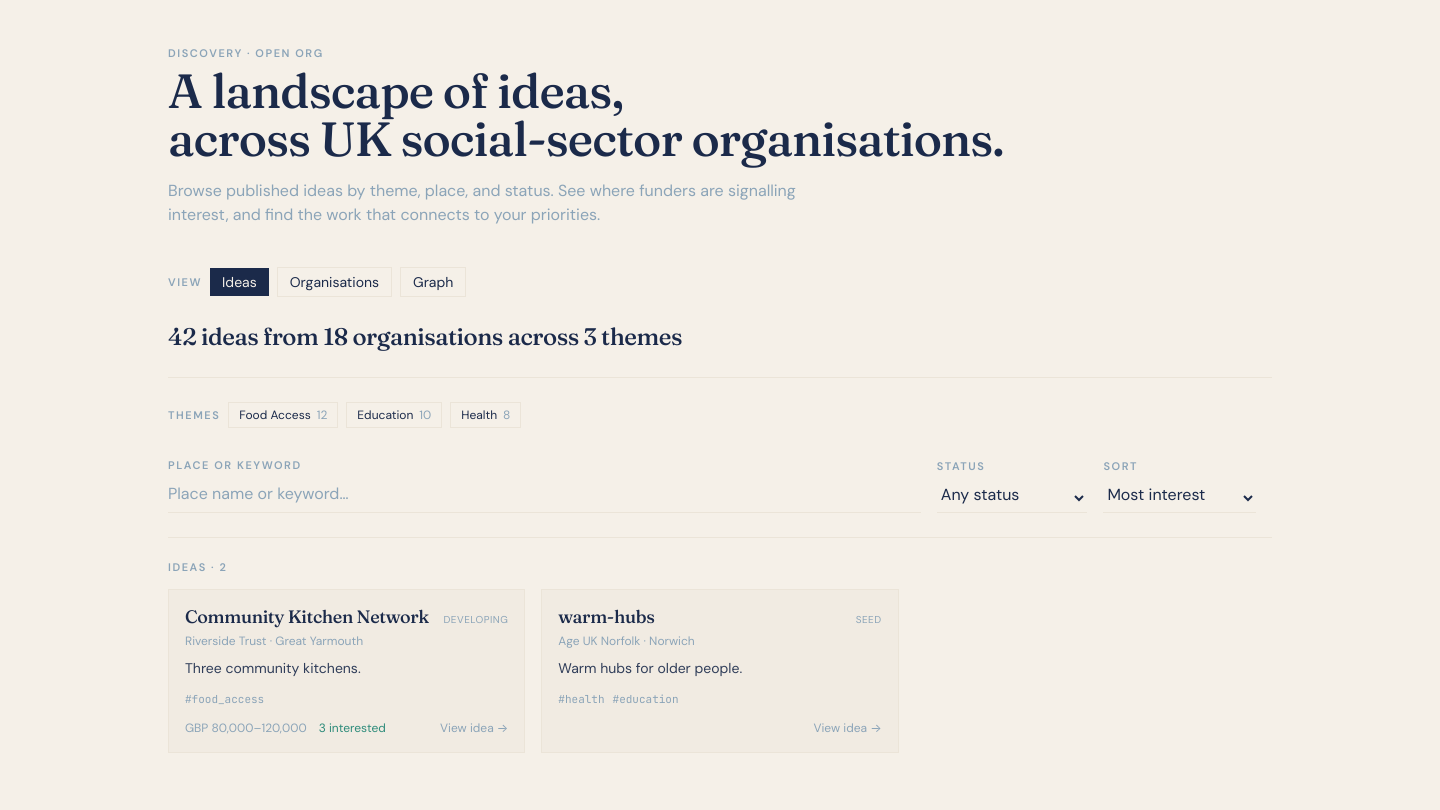
Test: Discover page — ideas-first › clicking a theme chip again deselects it and restores all ideas
Click the text "Food Access" at (275, 415), box x1=239 y1=407 x2=311 y2=423
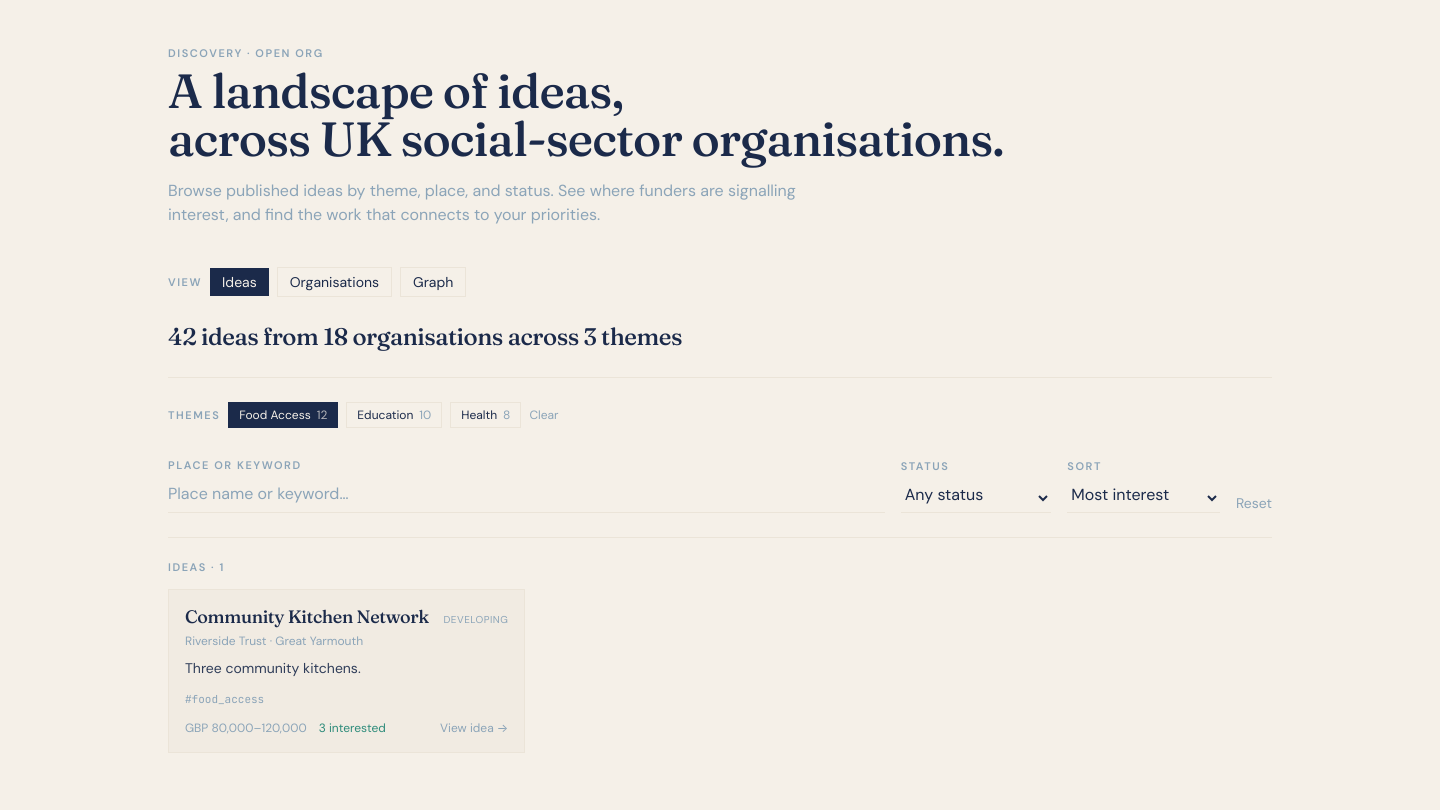
Check: the link "Community Kitchen Network" is shown, box x1=185 y1=605 x2=429 y2=628
Check: the link "warm-hubs" is gone
// Click again to deselect.
Click the text "Food Access" at (275, 415), box x1=239 y1=407 x2=311 y2=423
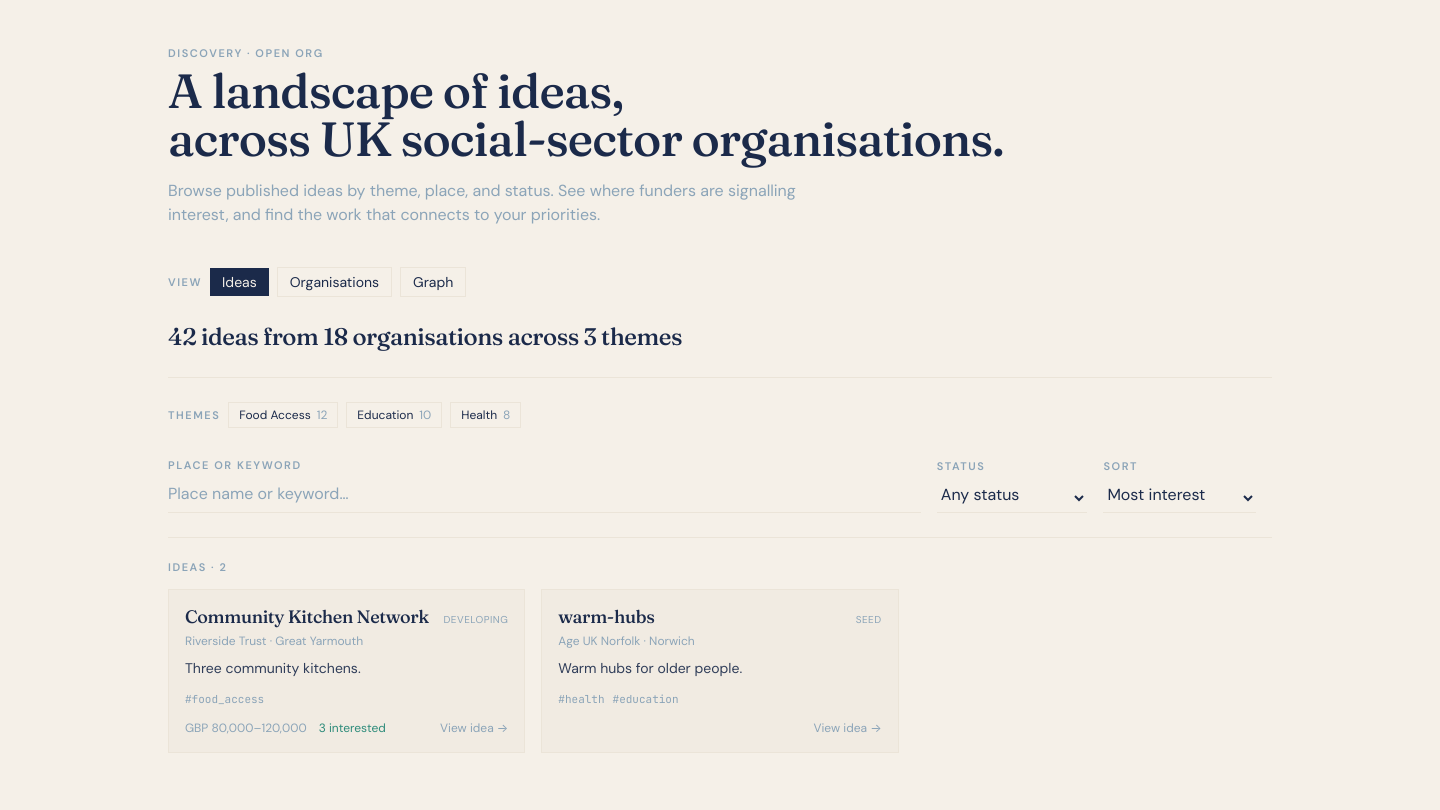
Check: the link "Community Kitchen Network" is shown, box x1=185 y1=605 x2=429 y2=628
Check: the link "warm-hubs" is shown, box x1=558 y1=605 x2=654 y2=628
